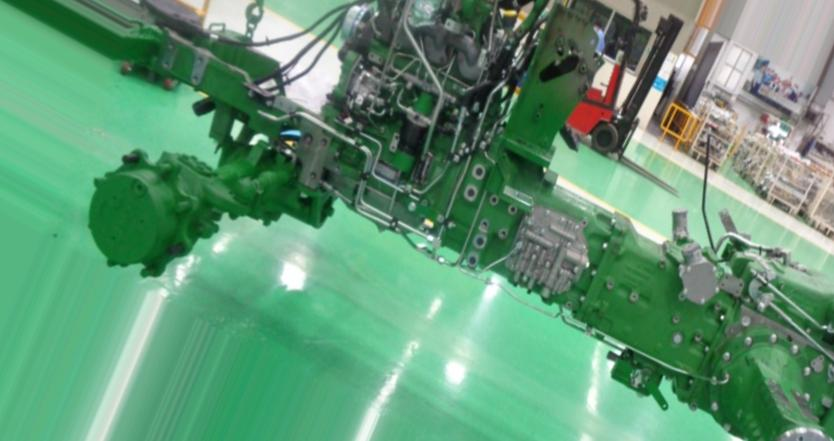engine: (83, 0, 834, 441)
